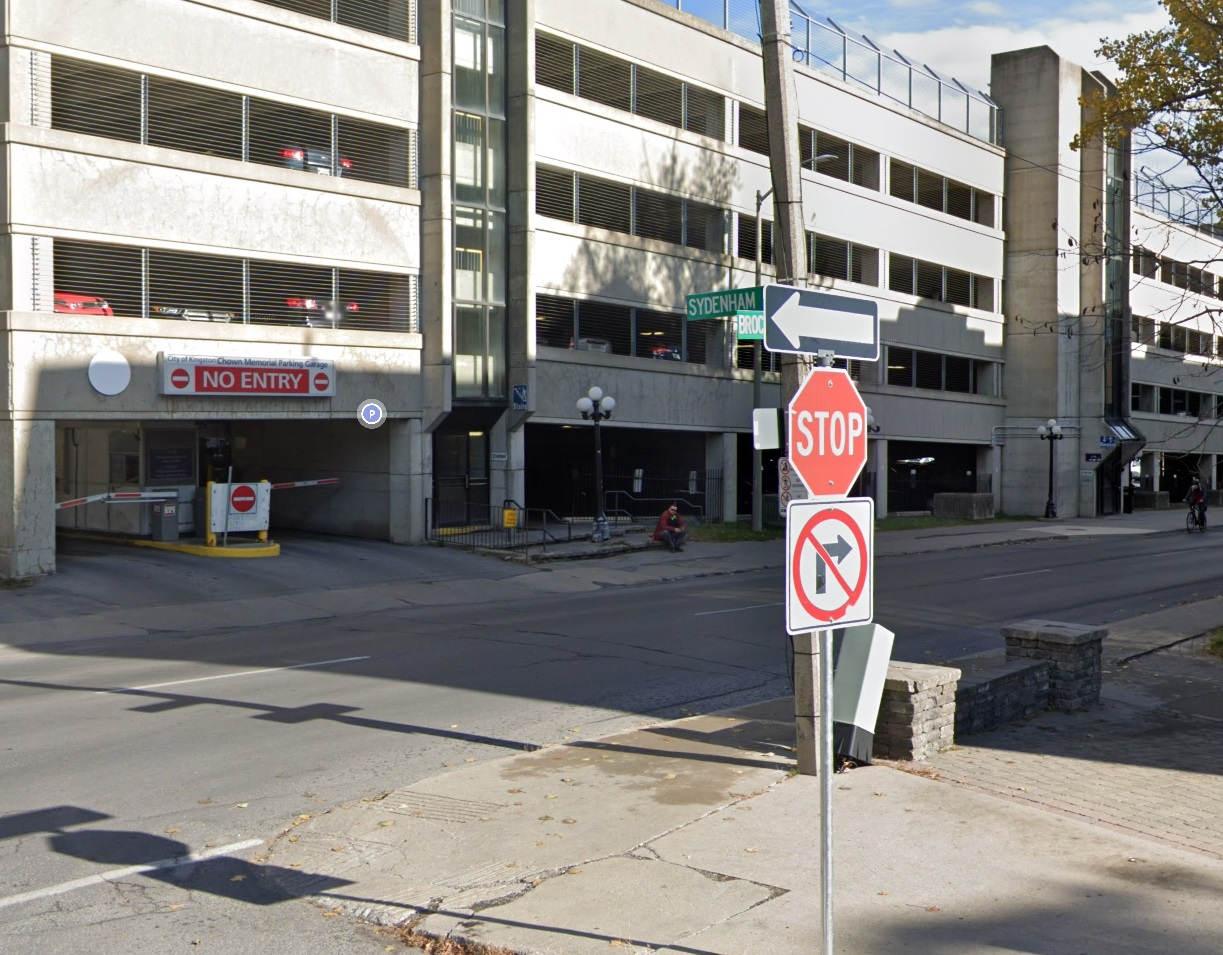sign_noentry: (227, 482, 258, 516), (165, 366, 192, 390), (311, 370, 332, 394)
sign_oneway_left: (763, 281, 880, 364)
sign_stop: (788, 366, 868, 502)
